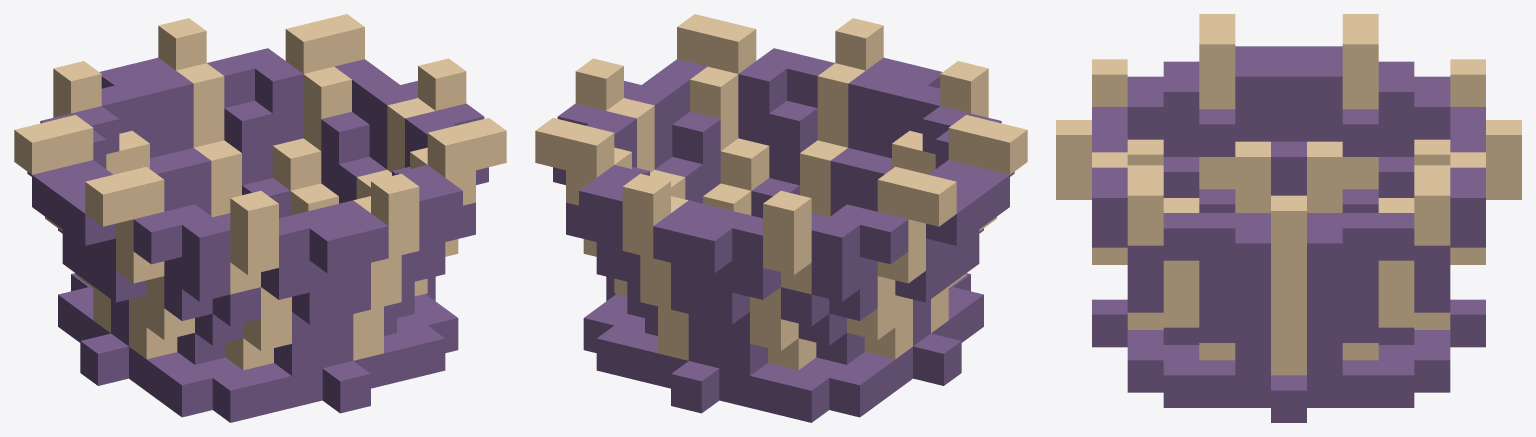
Rendered from alien-biosphere-woven-nest-87d77b23__22774.glb.
3 views of the same model, side by side, from view 1: azimuth 30°, elevation 25°; view 2: azimuth 150°, elevation 25°; view 3: azimuth 270°, elevation 25° (orthographic).
Parts seen in each view (by area): view 1: woven-nest; view 2: woven-nest; view 3: woven-nest.
Part boxes in pixels (x1=…): woven-nest: x1=14, y1=14, x2=506, y2=422; woven-nest: x1=535, y1=14, x2=1027, y2=422; woven-nest: x1=1056, y1=14, x2=1521, y2=422.
Size of the model in its own units: 1.82 by 1.12 by 1.82.
